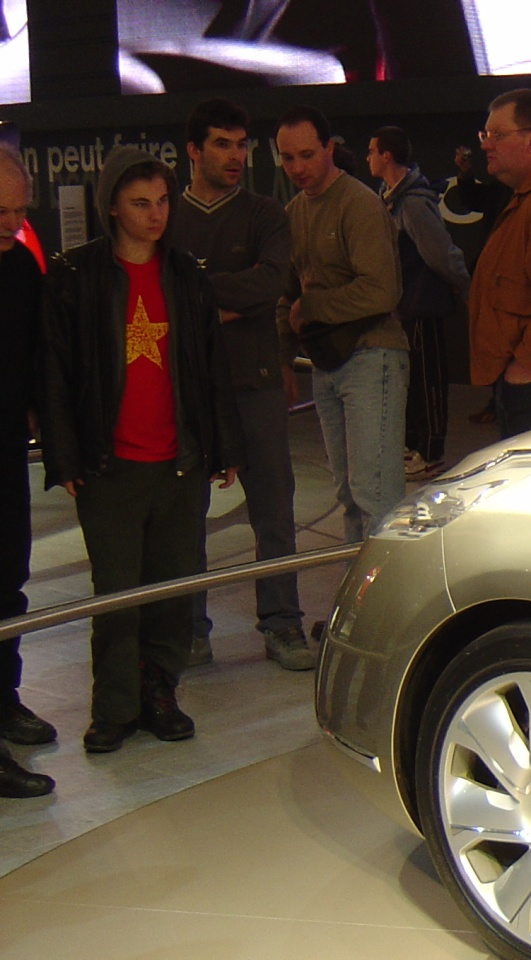person: (41, 154, 204, 748), (152, 102, 319, 676), (263, 109, 424, 650)
